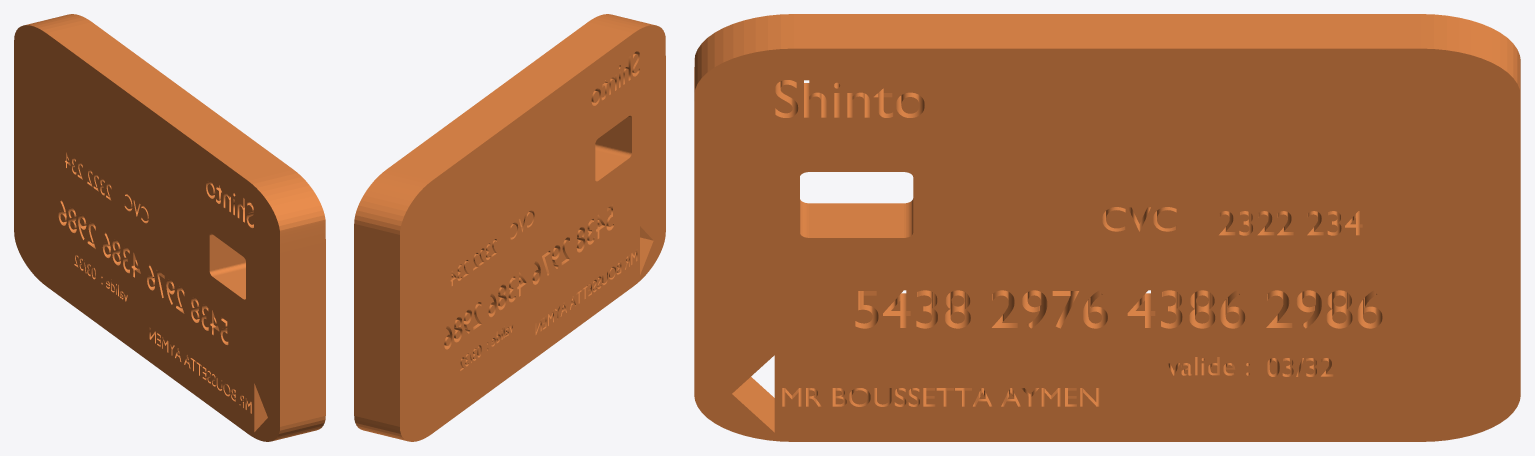
Rendered from ferrari_f40.glb.
3 renders of one model, left to right at view 1: azimuth 30°, elevation 25°; view 2: azimuth 150°, elevation 25°; view 3: azimuth 270°, elevation 25°, orthographic. The views are drawn at different scales.
Parts seen in each view (by area): view 1: Cube; view 2: Cube; view 3: Cube.
Boxes of the visible parts, x1,y1,x2,y2 form: Cube: [14, 14, 325, 441]; Cube: [354, 14, 665, 441]; Cube: [694, 14, 1520, 441].
Size of the model in its own units: 2.72 by 14.4 by 27.43.
